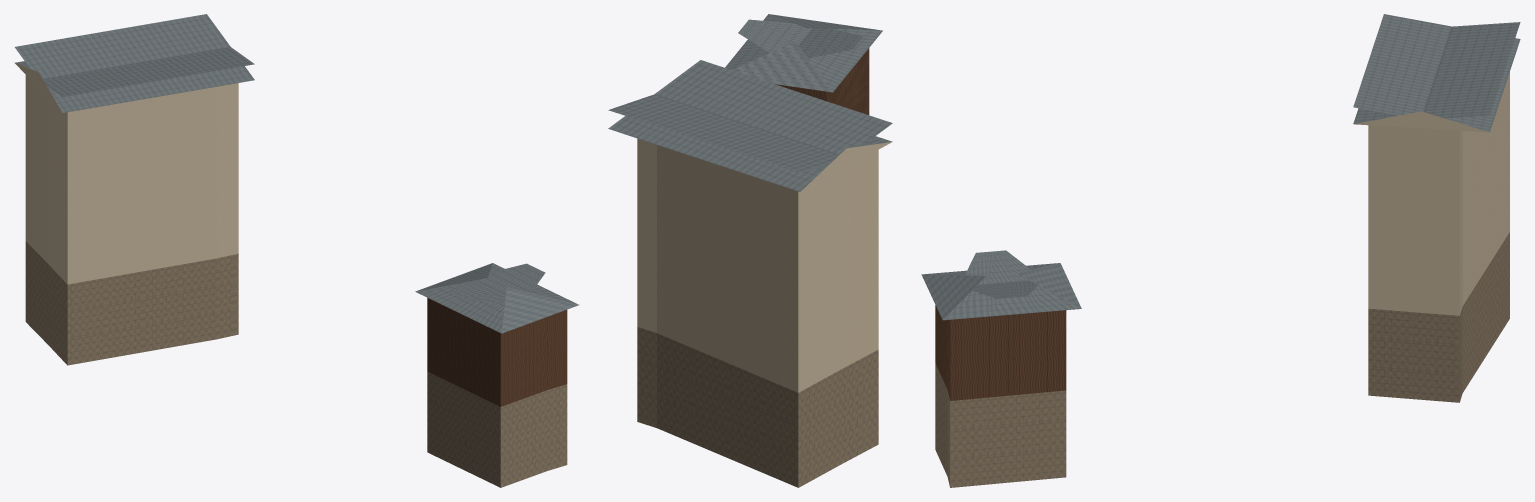
Rendered from bld_c4_6_498.gltf.
3 views of the same model, side by side, from view 1: azimuth 30°, elevation 25°; view 2: azimuth 150°, elevation 25°; view 3: azimuth 270°, elevation 25° (orthographic). The views are drawn at different scales.
Visible parts, largest first — view 1: bld_c4_6_498; view 2: bld_c4_6_498; view 3: bld_c4_6_498.
Part boxes in pixels (x1=…): bld_c4_6_498: x1=14, y1=14, x2=578, y2=487; bld_c4_6_498: x1=608, y1=14, x2=892, y2=487; bld_c4_6_498: x1=921, y1=14, x2=1520, y2=487.
Bounding box in the file's own units: 20.53 × 18.5 × 31.85.
5 materials, 5 textured.
